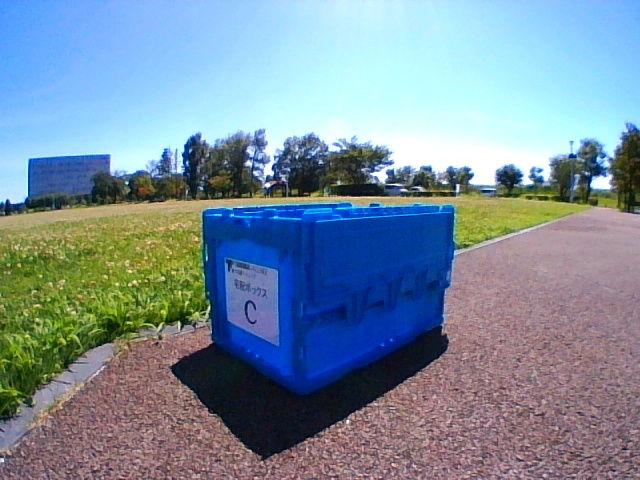blue_box: (202, 202, 456, 395)
tag_c: (231, 271, 273, 325)
